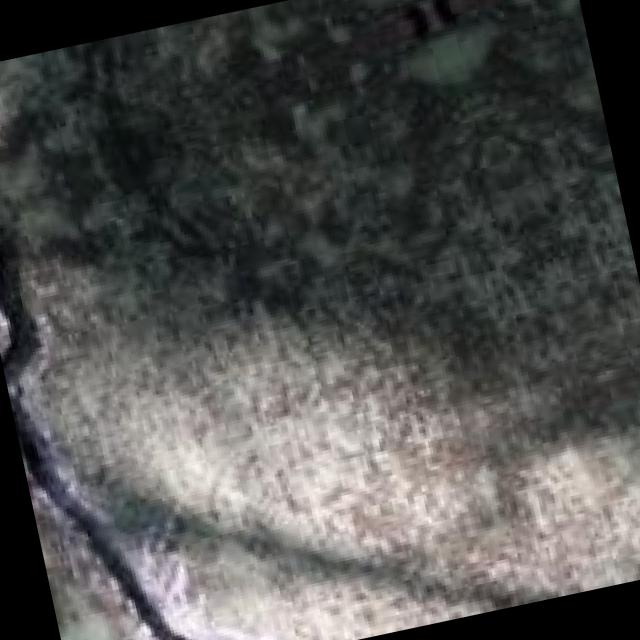crack: (0, 85, 254, 640)
